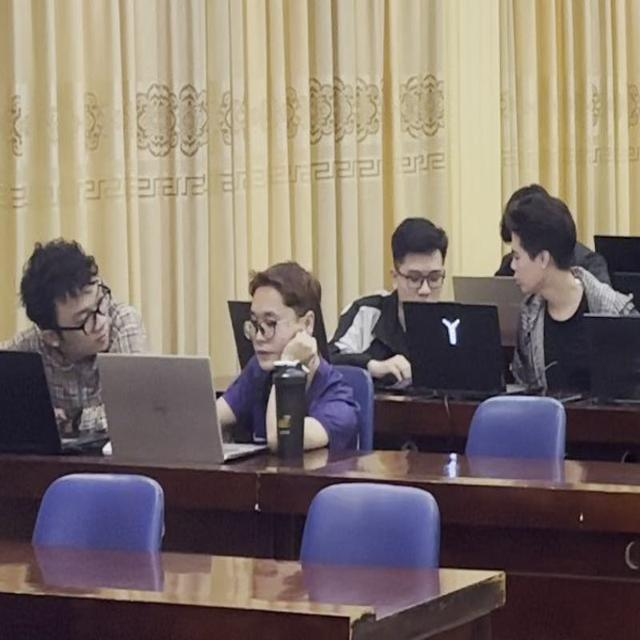Looking away: (13, 241, 113, 363), (253, 261, 326, 375), (390, 228, 458, 325), (510, 209, 566, 297)
